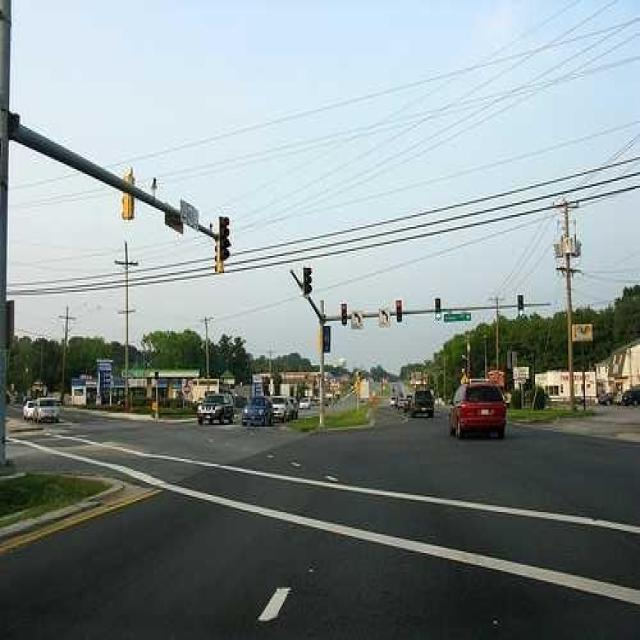Traffic Light -Green-: (434, 297, 444, 322), (517, 292, 525, 318)
